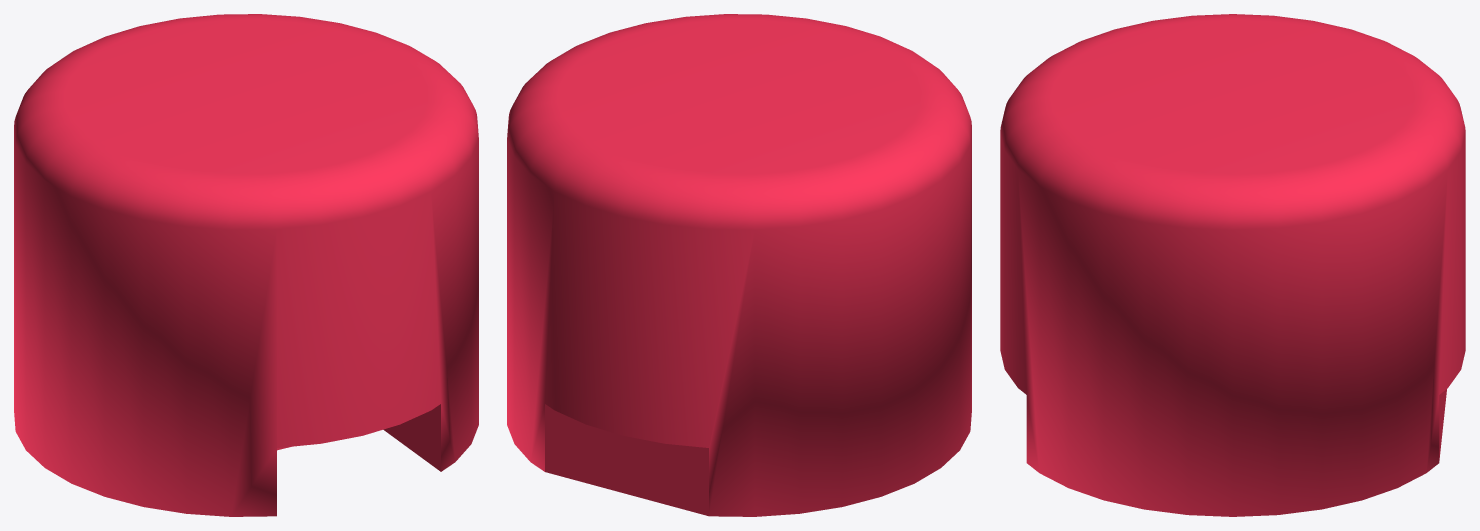
File: SKillKicksRed.glb
The picture shows the model from 3 angles, left to right: view 1: azimuth 30°, elevation 25°; view 2: azimuth 150°, elevation 25°; view 3: azimuth 270°, elevation 25°; orthographic projection.
Parts seen in each view (by area): view 1: Cylinder; view 2: Cylinder; view 3: Cylinder.
Part boxes in pixels (bbox=[...]): Cylinder: bbox=[14, 14, 478, 516]; Cylinder: bbox=[507, 14, 971, 516]; Cylinder: bbox=[1000, 14, 1465, 516].
Bounding box in the file's own units: 2.62 × 2 × 2.62.
